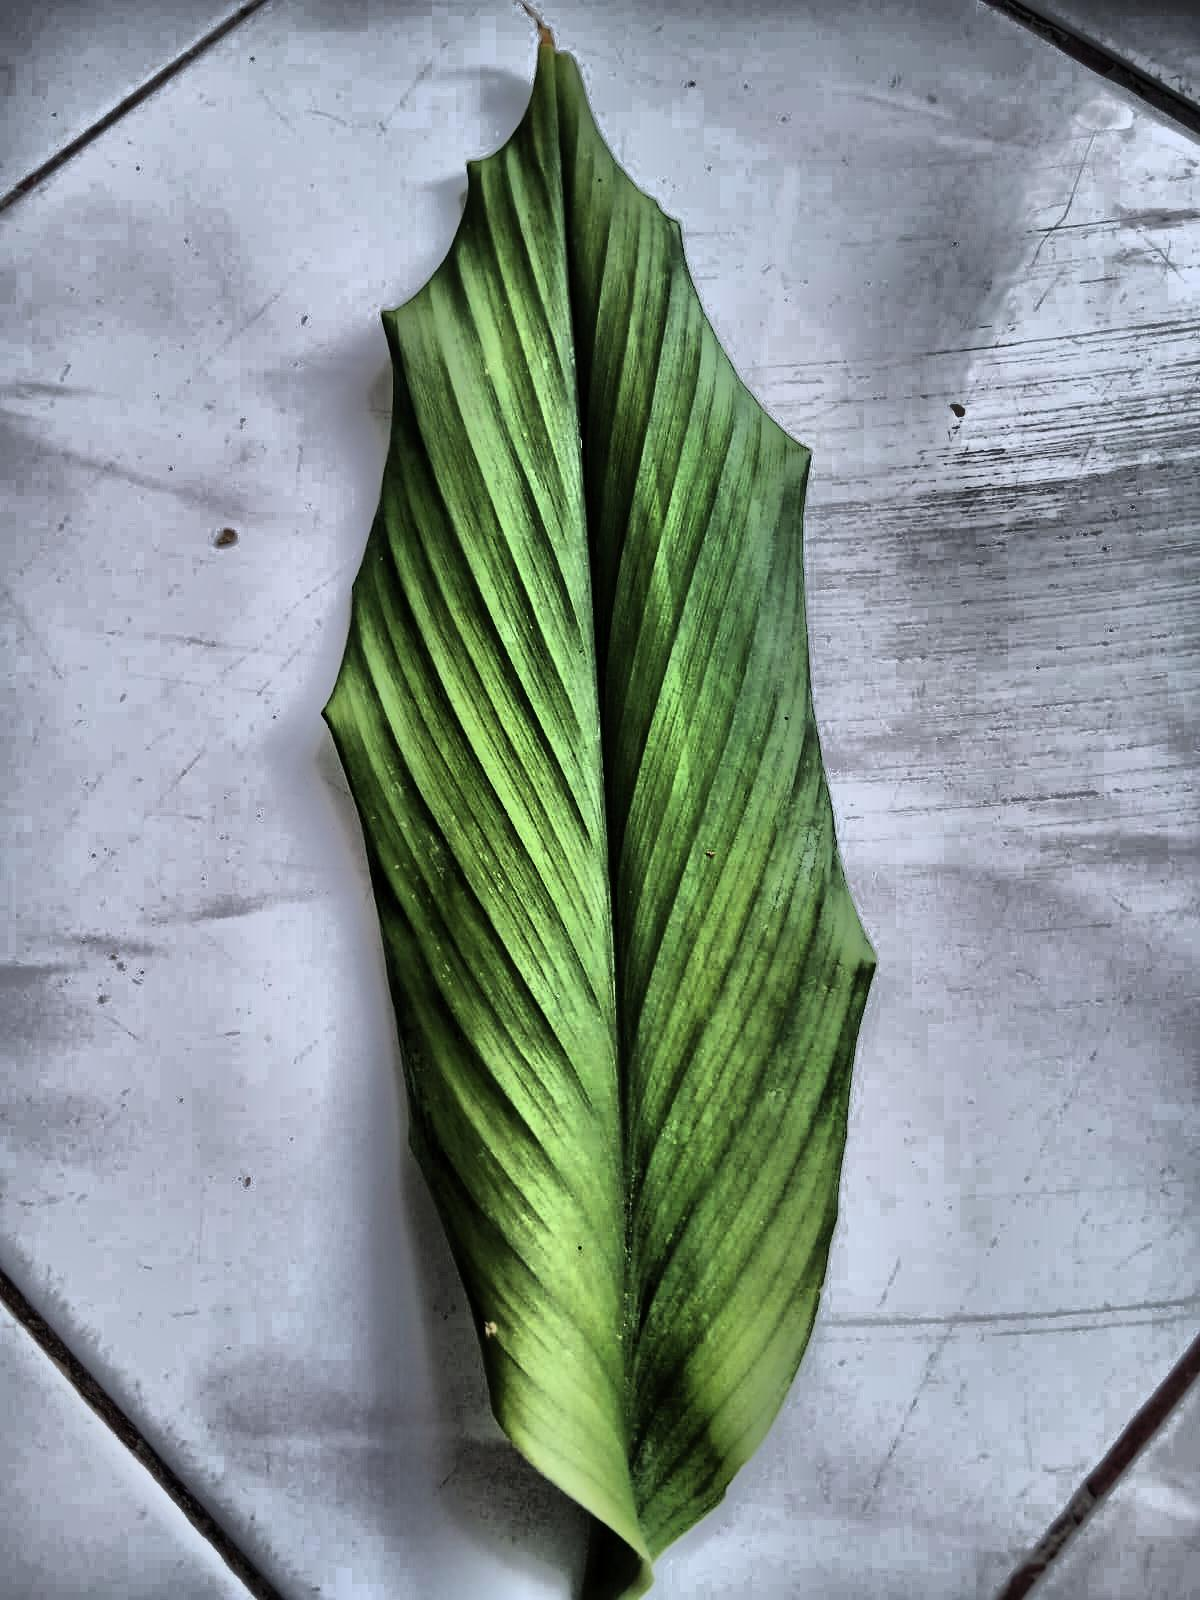daun kunyit: (325, 38, 874, 1599)
